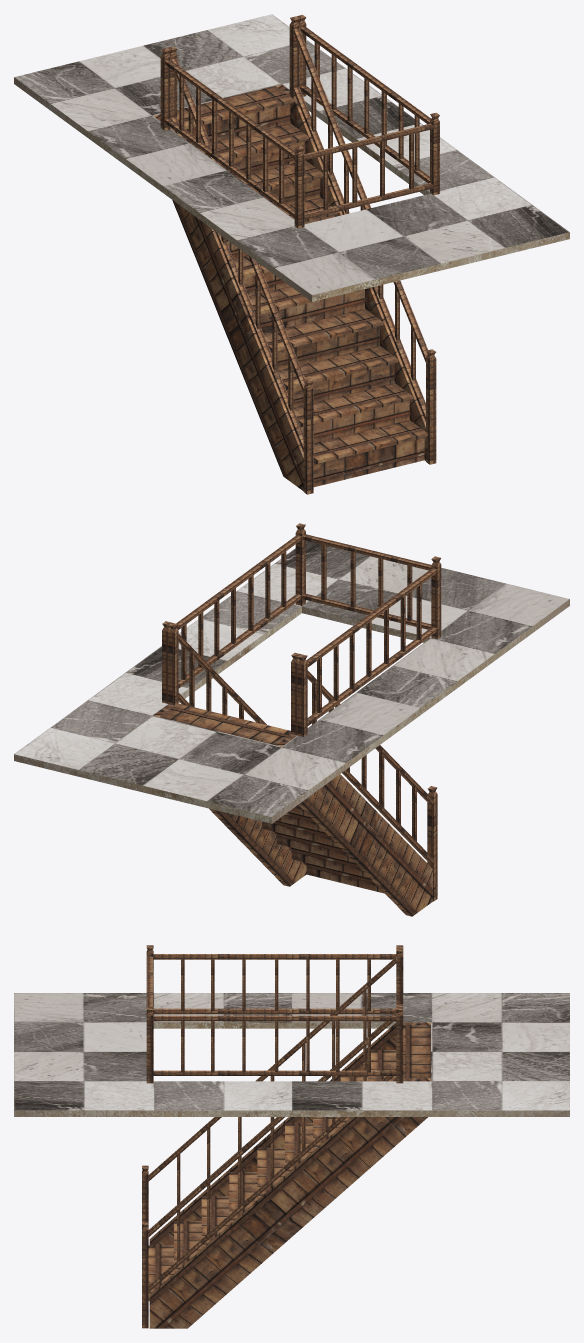
The model's file is svspartastairs1.dae.
3 views of the same model, one above another, from view 1: azimuth 30°, elevation 25°; view 2: azimuth 150°, elevation 25°; view 3: azimuth 270°, elevation 25° (orthographic). The views are drawn at different scales.
Parts seen in each view (by area): view 1: stairs-0; view 2: stairs-0; view 3: stairs-0.
Boxes of the visible parts, x1,y1,x2,y2 form: stairs-0: [14, 14, 569, 494]; stairs-0: [14, 523, 569, 916]; stairs-0: [14, 945, 569, 1328].
Size of the model in its own units: 400 by 510 by 800.
